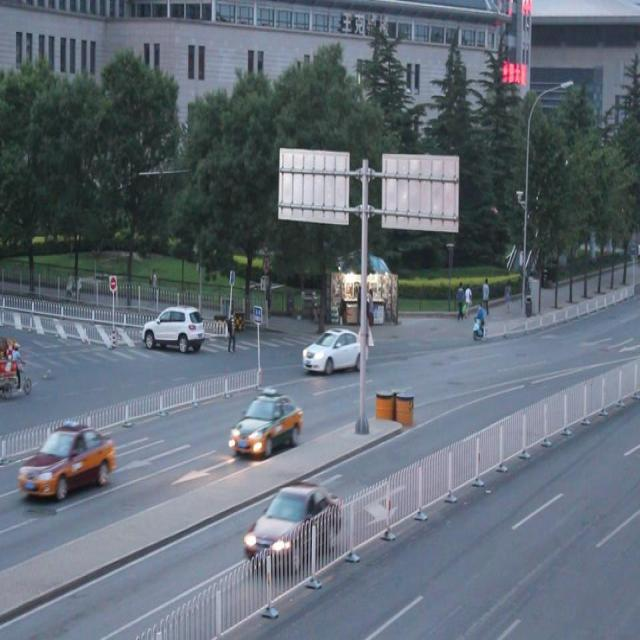car: (244, 480, 340, 568), (22, 419, 114, 503), (229, 389, 301, 457), (302, 328, 365, 374), (141, 304, 202, 350)
